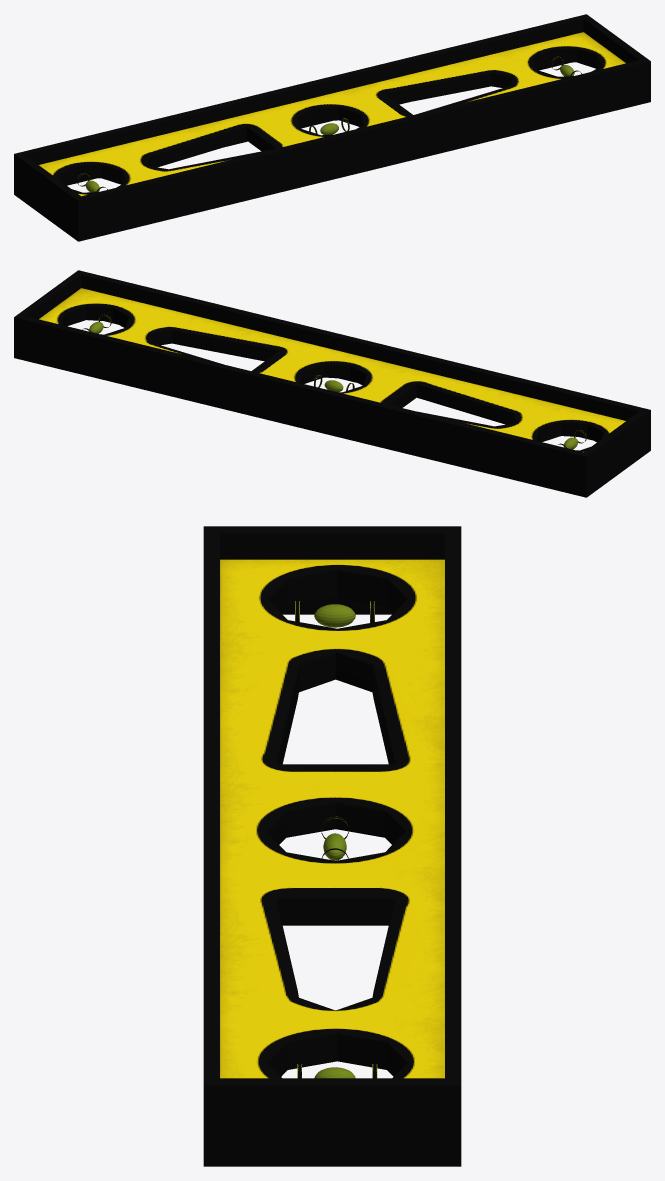
File: carpenter level.fbx
3 renders of one model, top to bottom at view 1: azimuth 30°, elevation 25°; view 2: azimuth 150°, elevation 25°; view 3: azimuth 270°, elevation 25°, orthographic. The views are drawn at different scales.
Visible parts, largest first — view 1: Carpenter_Level_grp1; view 2: Carpenter_Level_grp1; view 3: Carpenter_Level_grp1.
Part boxes in pixels (x1=…): Carpenter_Level_grp1: x1=14, y1=14, x2=650, y2=241; Carpenter_Level_grp1: x1=14, y1=270, x2=650, y2=497; Carpenter_Level_grp1: x1=203, y1=526, x2=461, y2=1166.
Bounding box in the file's own units: 15.9 × 1.08 × 3.1.
Materials: 1 (1 with a texture image).
